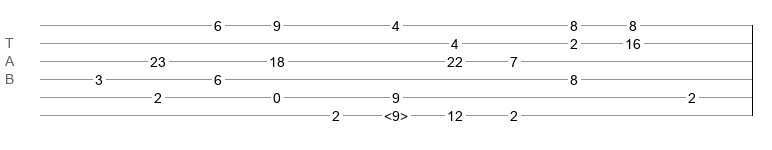0: (273, 90, 281, 100)
12: (447, 108, 463, 118)
16: (625, 36, 641, 46)
18: (269, 54, 285, 64)
2: (154, 90, 162, 100), (332, 108, 340, 118), (510, 108, 518, 118), (570, 36, 578, 46), (688, 90, 696, 100)
22: (447, 54, 463, 64)
23: (150, 54, 166, 64)
3: (95, 72, 103, 82)
4: (392, 18, 400, 28), (451, 36, 459, 46)
6: (214, 72, 222, 82), (214, 18, 222, 28)
7: (510, 54, 518, 64)
8: (570, 18, 578, 28), (570, 72, 578, 82), (629, 18, 637, 28)
9: (273, 18, 281, 28), (392, 90, 400, 100)
harmonic: (384, 108, 408, 118)
